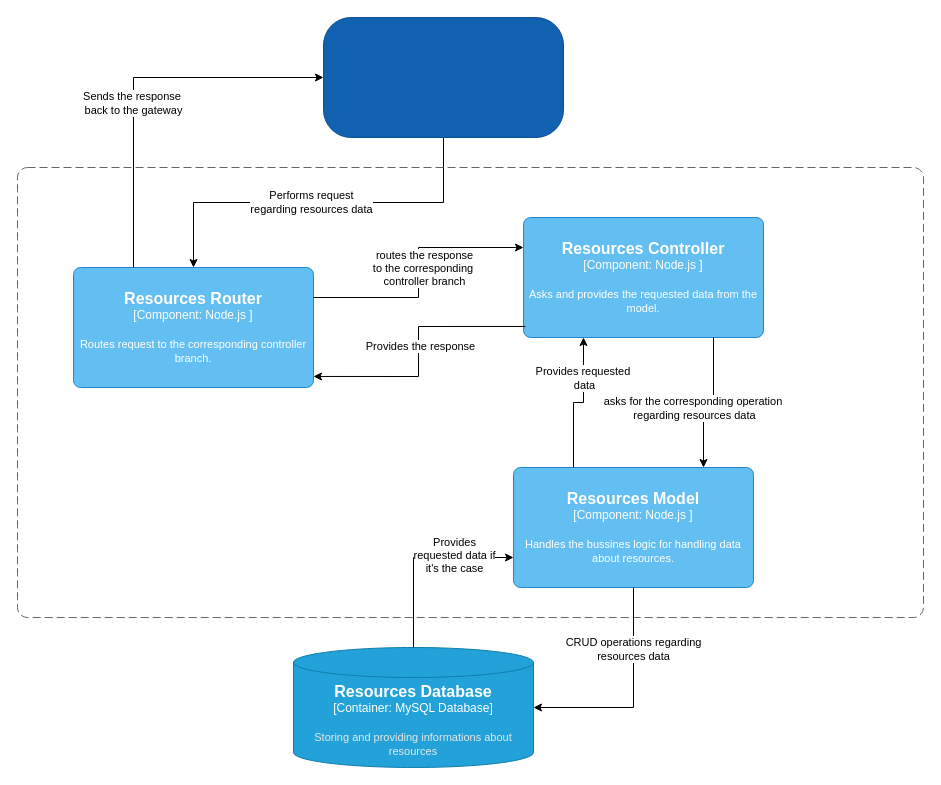
The diagram is 941 pixels wide and 785 high, and some of its shapes have lost their labels. The shapes that lost their labels are listed below. From the top down, each one's box as (x1, y1, x2, y2) in pixels, then its label:
(322, 16, 564, 138): API Gateway [Software System] Gateway for APIs (Router, Controller)
(16, 166, 924, 618): Resources API [Container]
